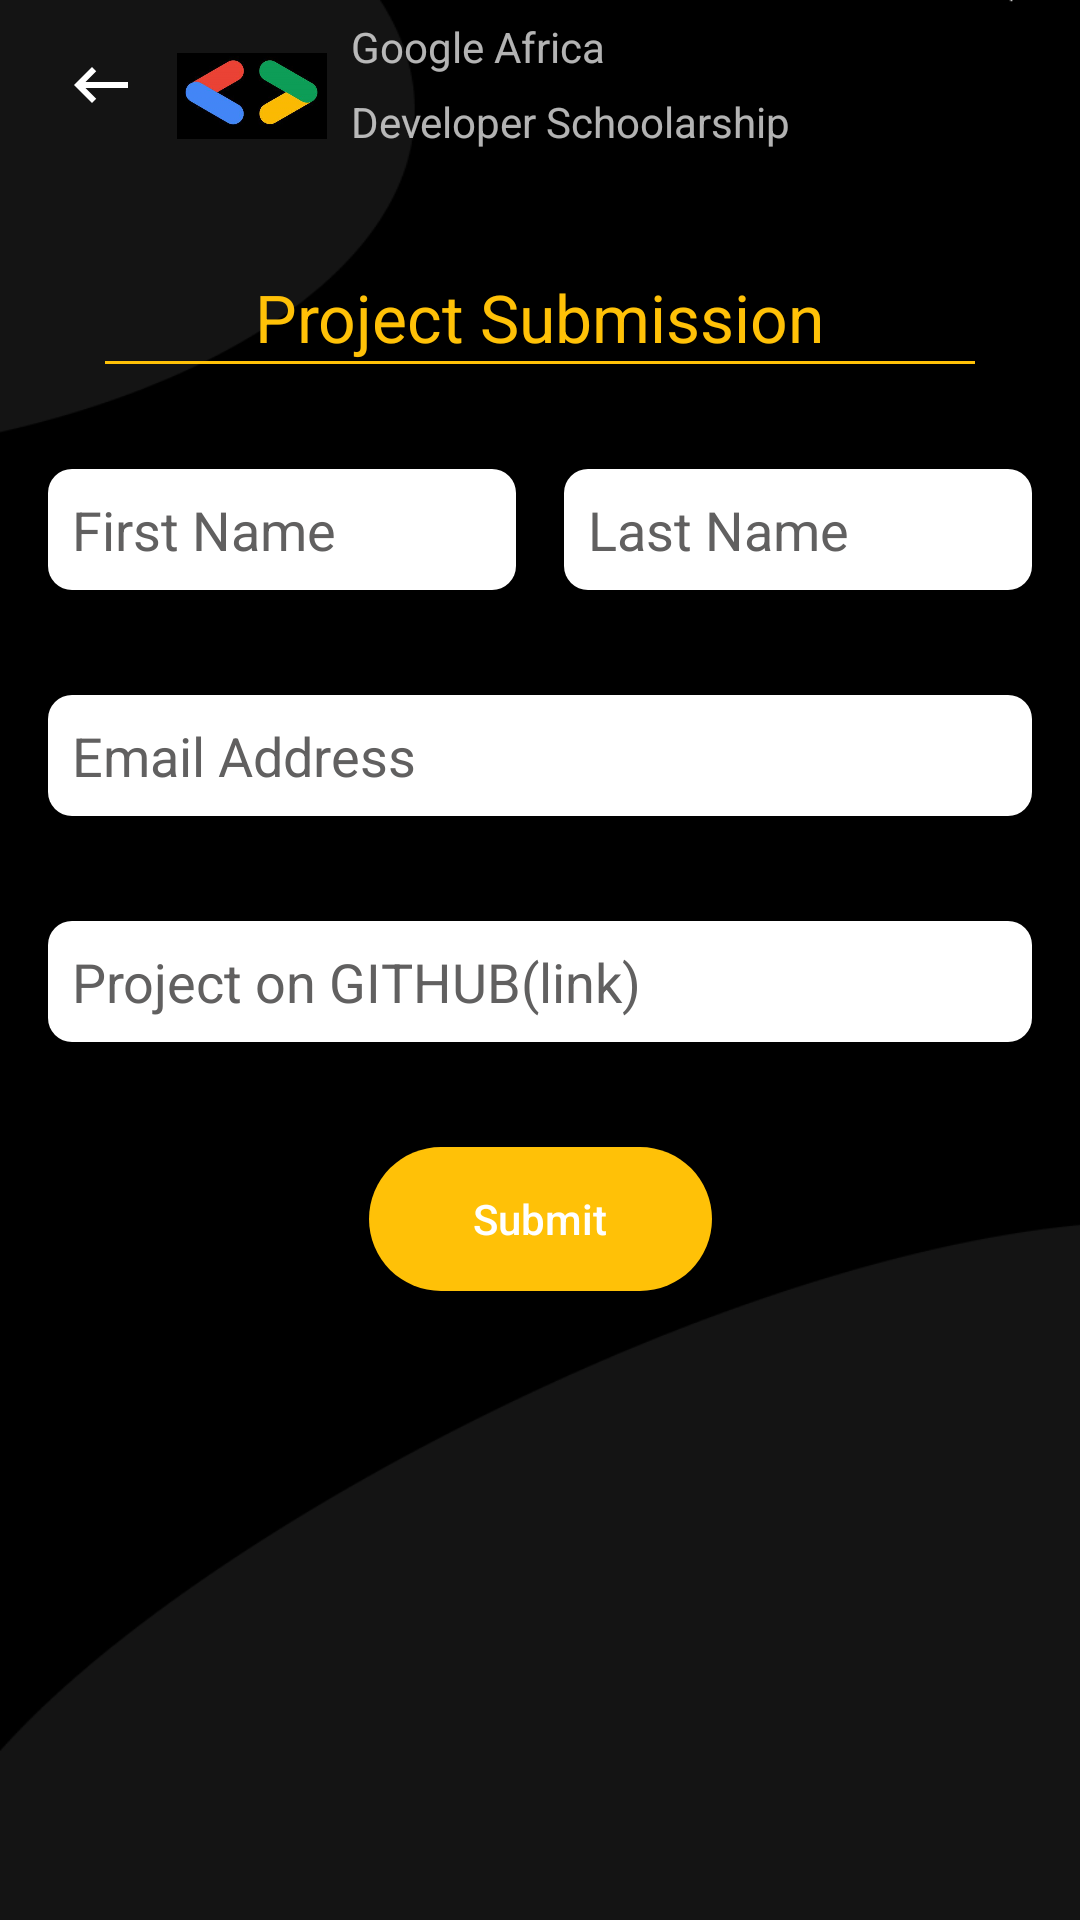

Screen size 1080 × 1920. Icon name, then its center in pixels as [x,y]:
back: [101,85]
